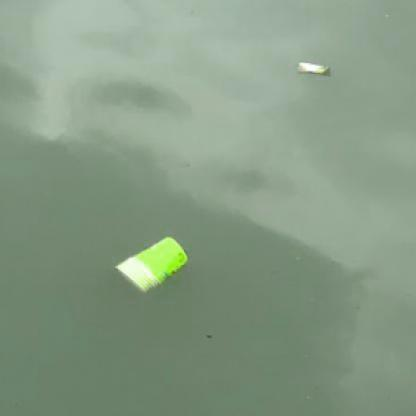Plastic: (110, 233, 192, 299)
